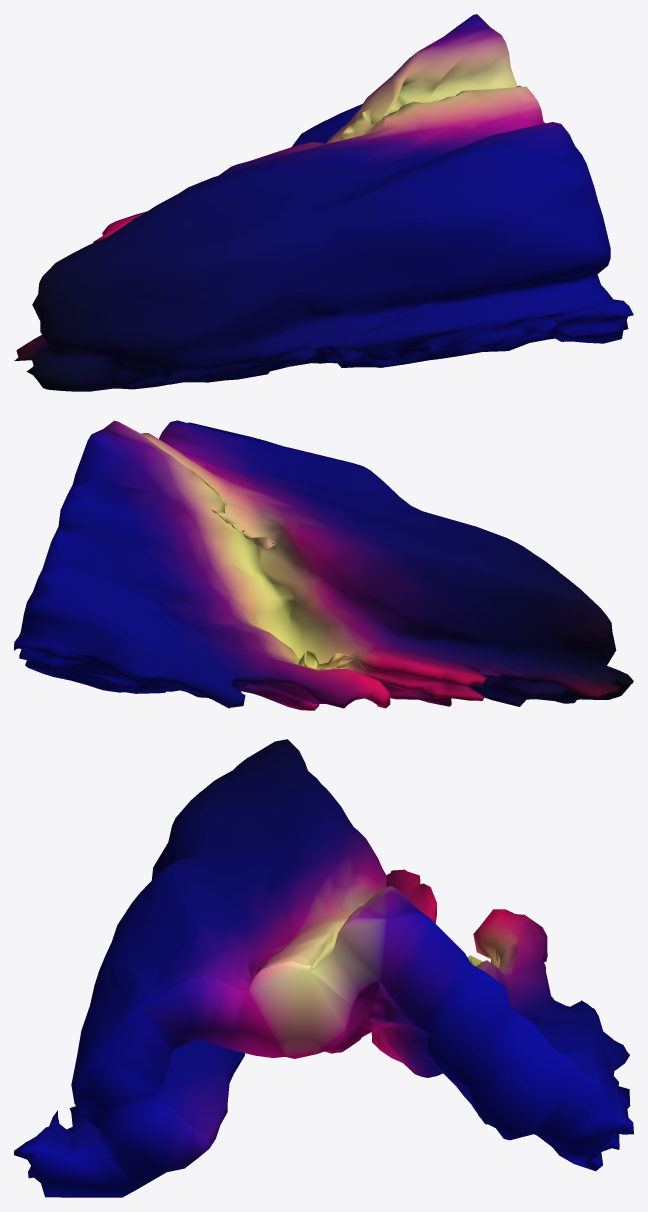
File: ember_iron_vein-u2-cold-lod0.gltf
3 renders of one model, top to bottom at view 1: azimuth 30°, elevation 25°; view 2: azimuth 150°, elevation 25°; view 3: azimuth 270°, elevation 25°, orthographic. The views are drawn at different scales.
Parts seen in each view (by area): view 1: ember_iron_vein-u2-cold-lod0; view 2: ember_iron_vein-u2-cold-lod0; view 3: ember_iron_vein-u2-cold-lod0.
Boxes of the visible parts, x1=… form: ember_iron_vein-u2-cold-lod0: x1=14, y1=14, x2=633, y2=391; ember_iron_vein-u2-cold-lod0: x1=14, y1=420, x2=633, y2=710; ember_iron_vein-u2-cold-lod0: x1=14, y1=739, x2=633, y2=1197.
Size of the model in its own units: 0.8336 by 0.34 by 0.6728.
